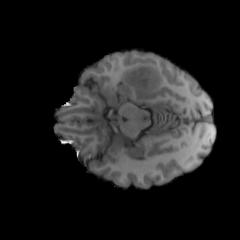glioma: (122, 65, 163, 96)
